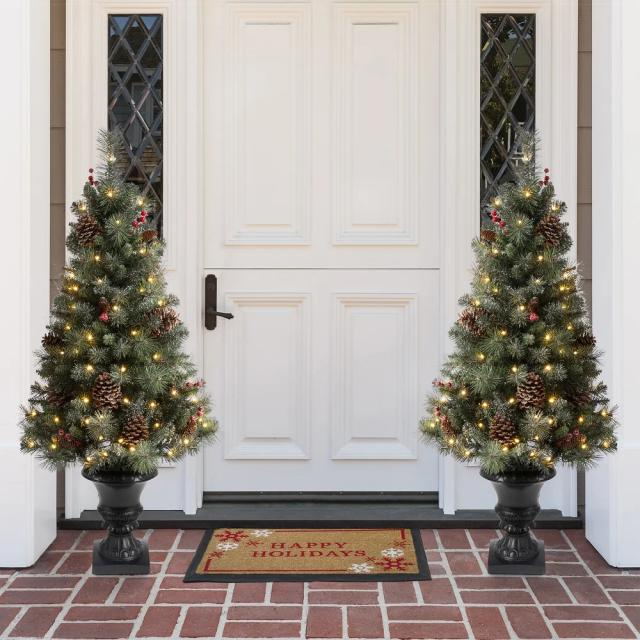Christmas-tree: (416, 113, 619, 470)
